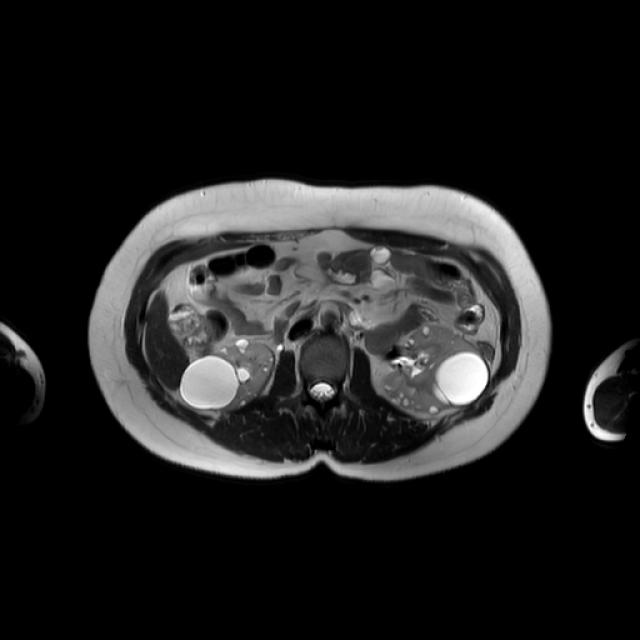sag: (181, 340, 275, 409)
sol: (382, 324, 490, 413)
